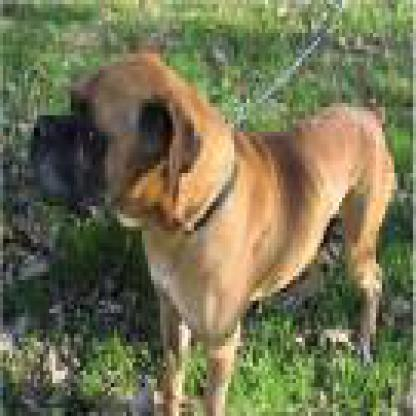dog: (18, 75, 286, 273)
